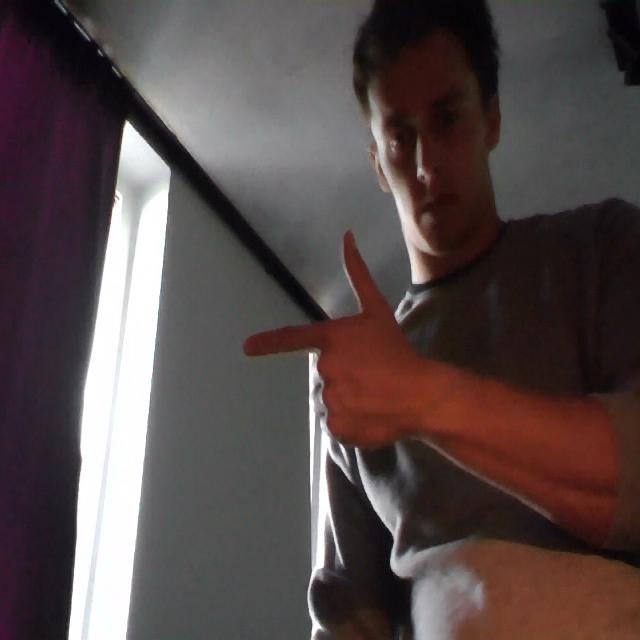left: (229, 228, 432, 458)
